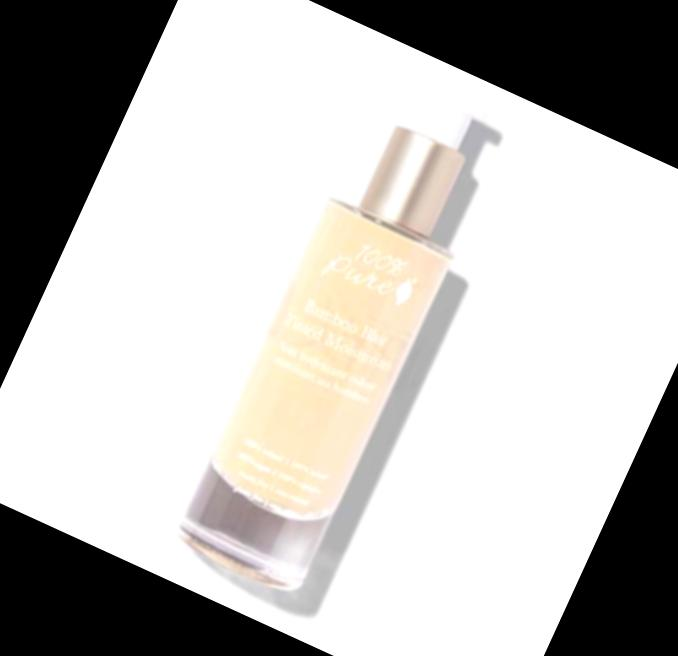cosmetic: (170, 63, 515, 591)
